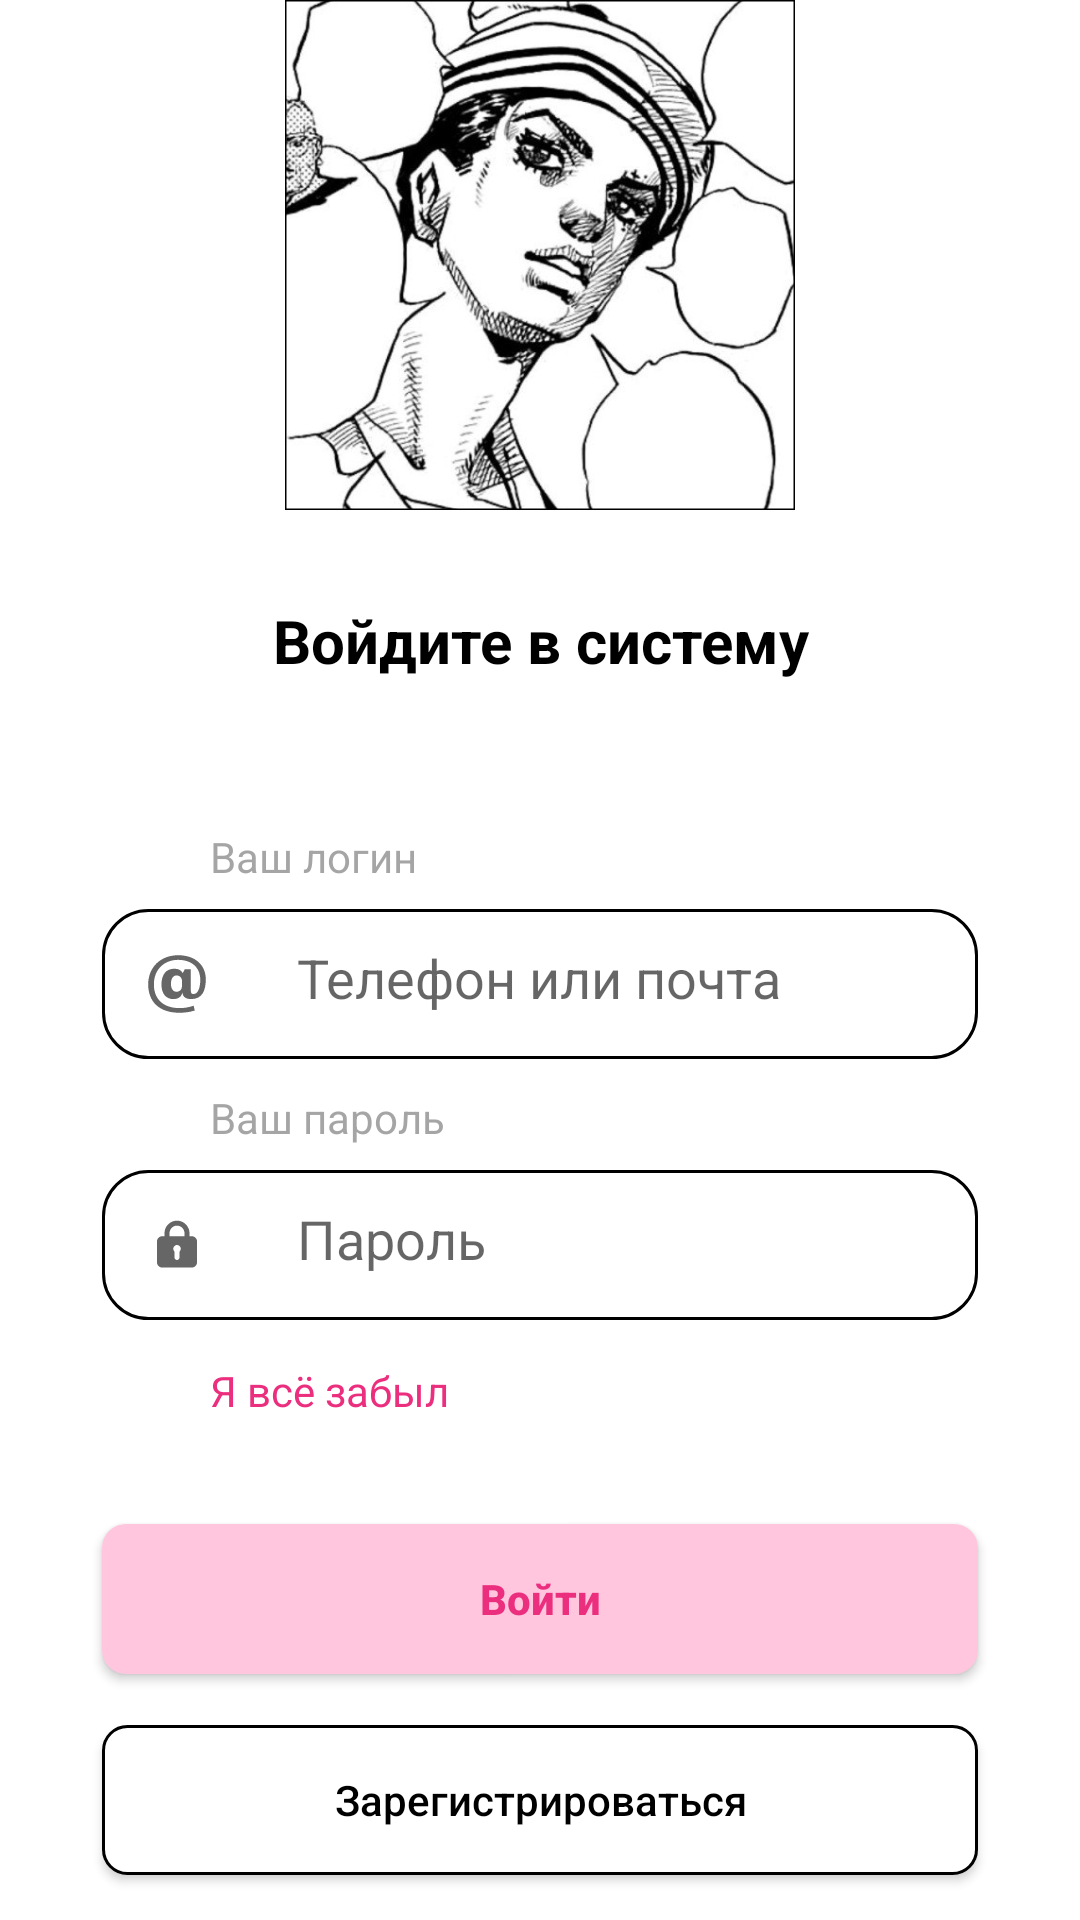

Named icons in this screenshot (1080w x 1920h) and their centers, [x,y]:
email: [177,984]
password: [177,1244]
